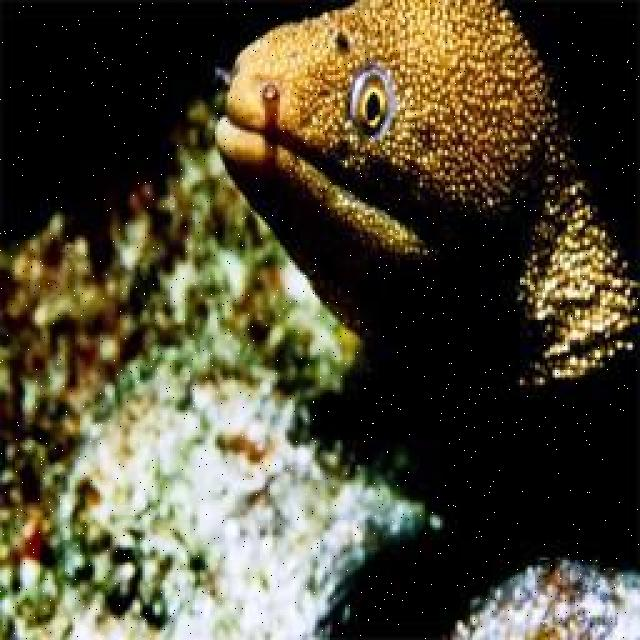fish: (211, 1, 638, 387)
